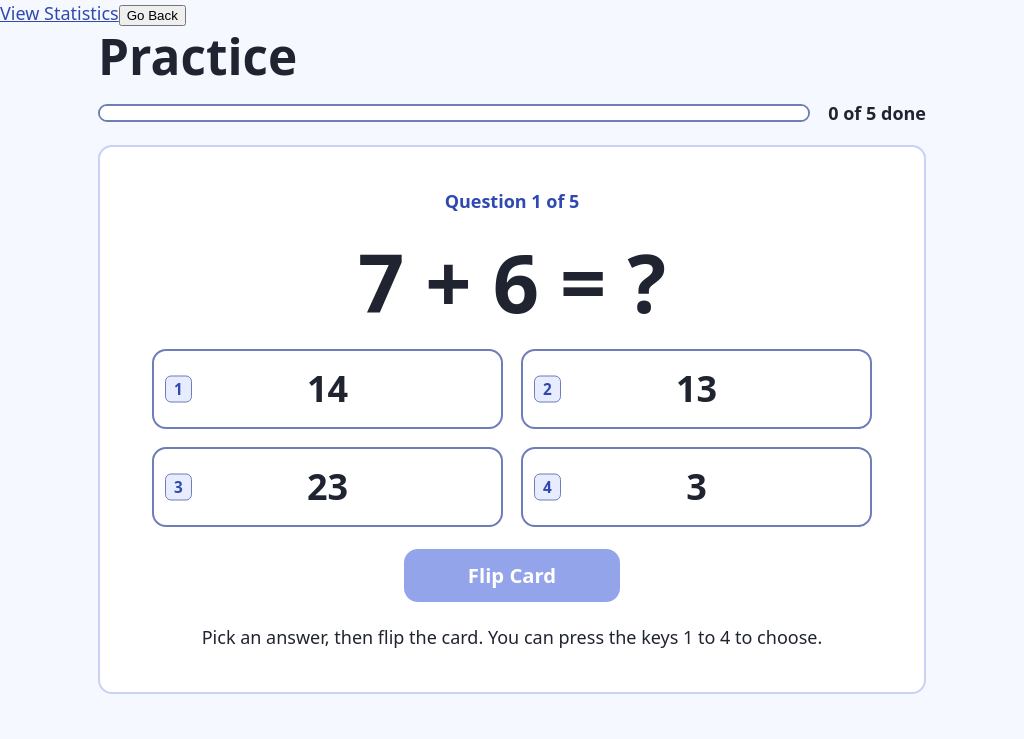
Test: leaving a session in progress › also asks before any question has been answered
Click the link "View Statistics" at (59, 13), box [0,1,119,25]
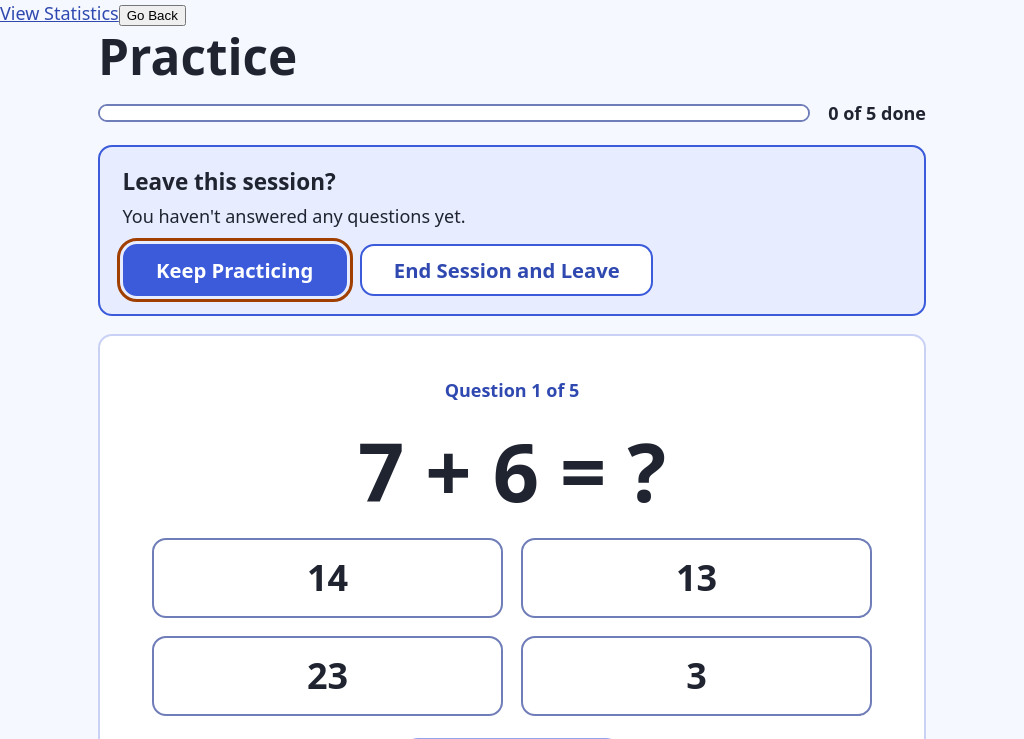
Now the dialog shows "You haven't answered any questions yet.", box [122,204,466,228]
